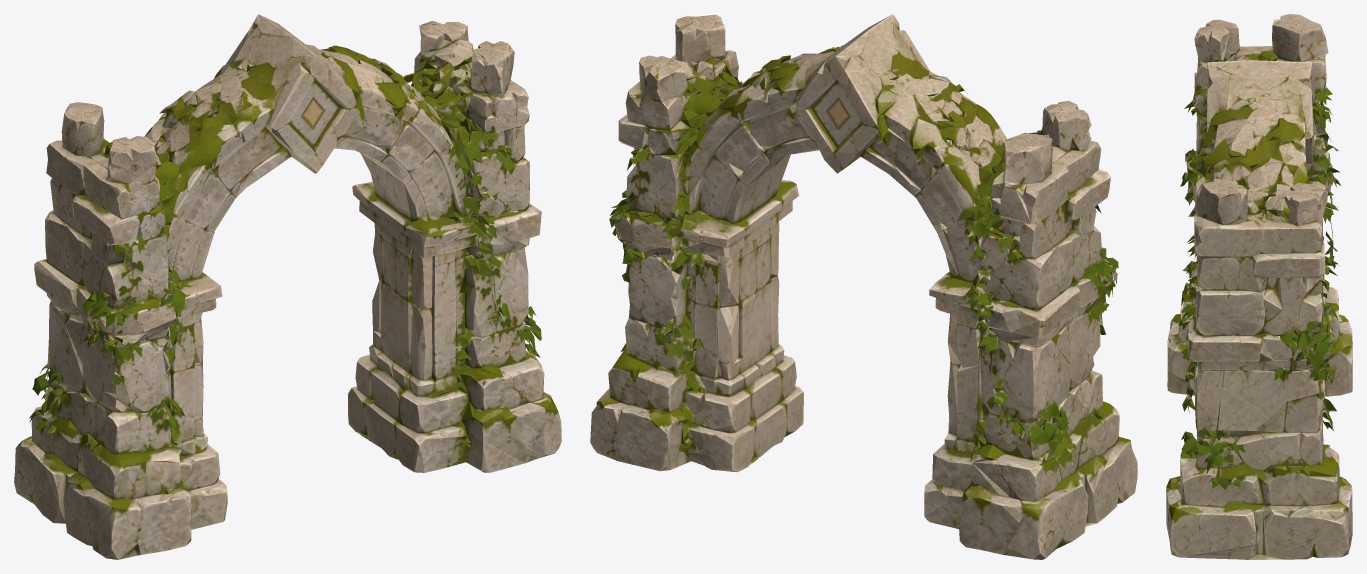
Rendered from gate.glb.
The picture shows the model from 3 angles, left to right: view 1: azimuth 30°, elevation 25°; view 2: azimuth 150°, elevation 25°; view 3: azimuth 270°, elevation 25°; orthographic projection. The views are drawn at different scales.
Bounding box in the file's own units: 1.89 × 1.74 × 0.7385.
Materials: 1 (1 with a texture image).
